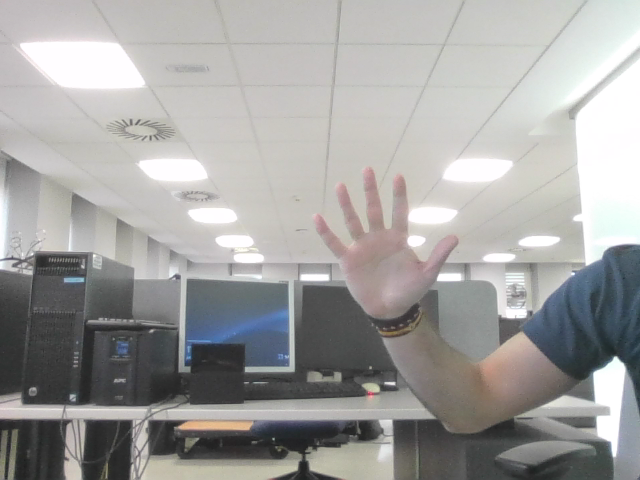Mano Abierta: (323, 179, 444, 289)
